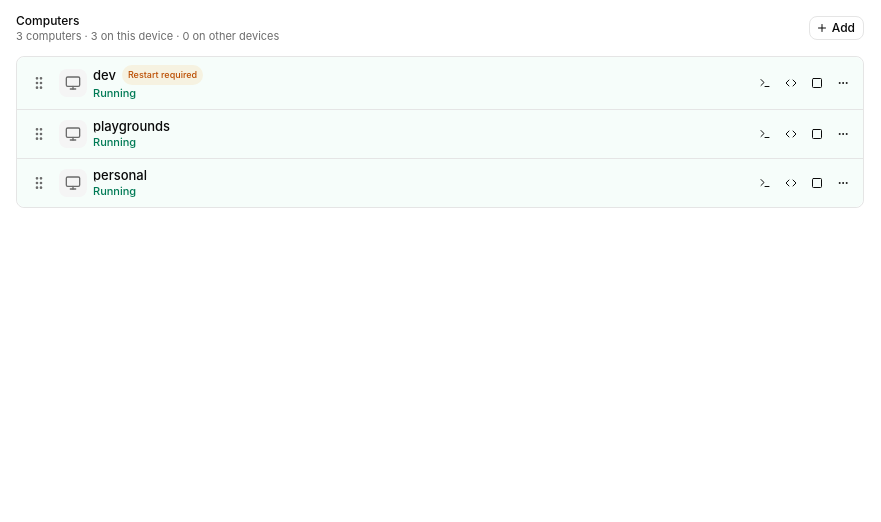
Test: opens storage from a local computer menu and sends its managed ID
Click the button named "More actions for dev".
click(843, 83)  # box [831, 71, 855, 95]
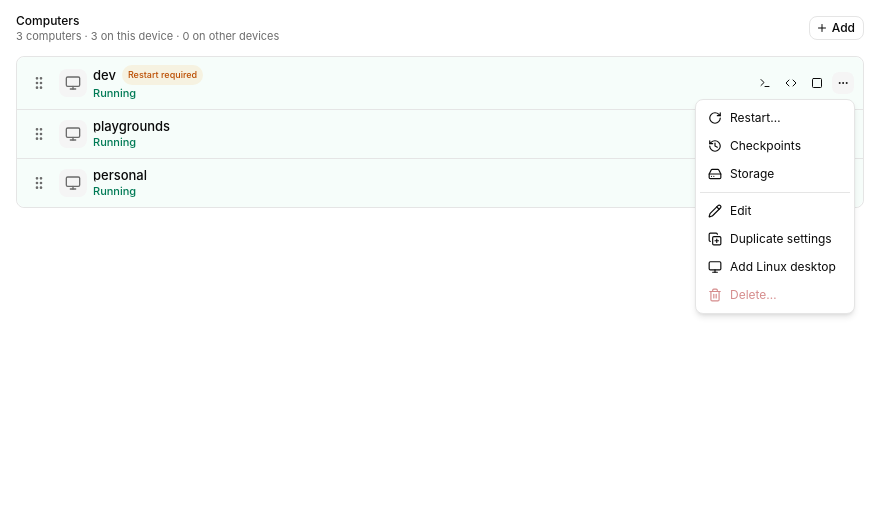
Click the menu item "Storage".
click(741, 174)  # box [708, 166, 774, 181]
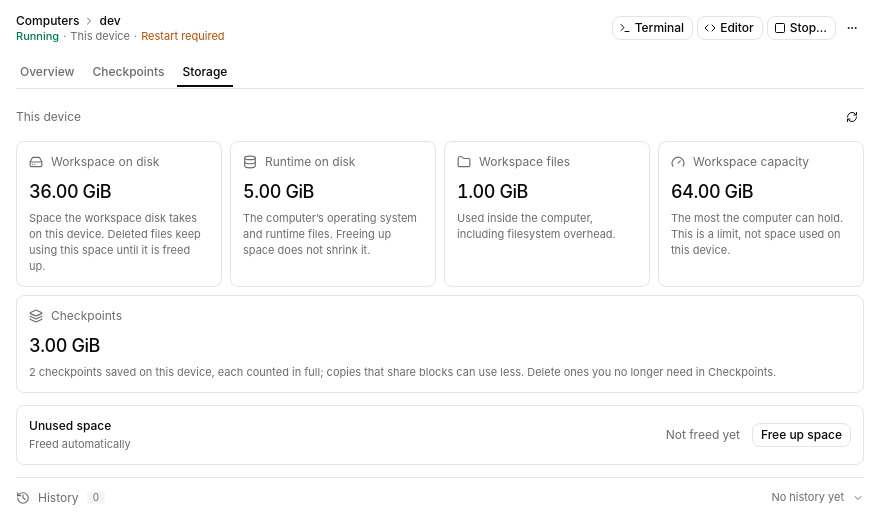
Check: the text "36.00 GiB" is shown, box [29, 181, 111, 202]
